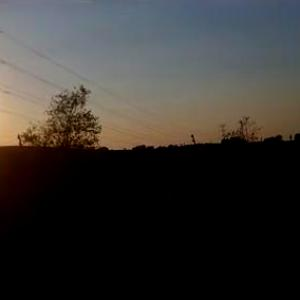follow: (144, 174, 200, 299)
